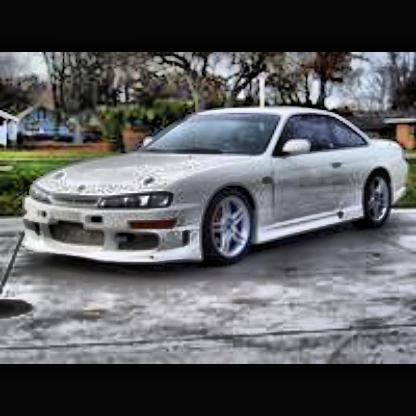Nissan 240SX Coupe 1998: (20, 103, 416, 279)
